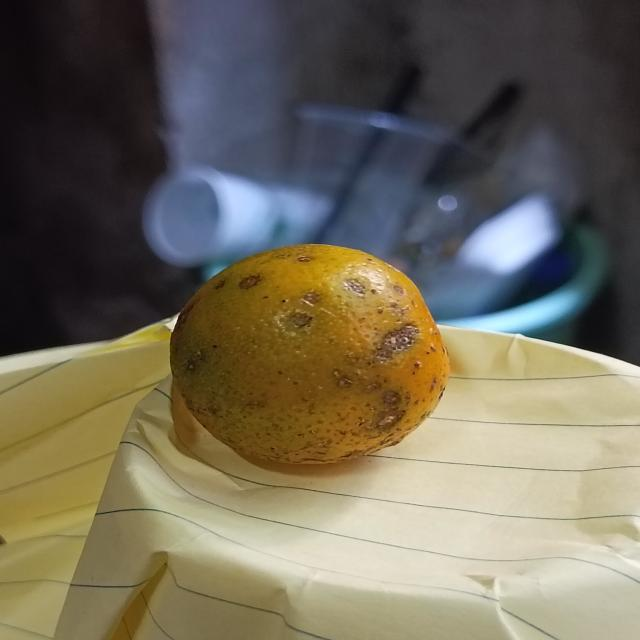black spot: (166, 238, 456, 471)
